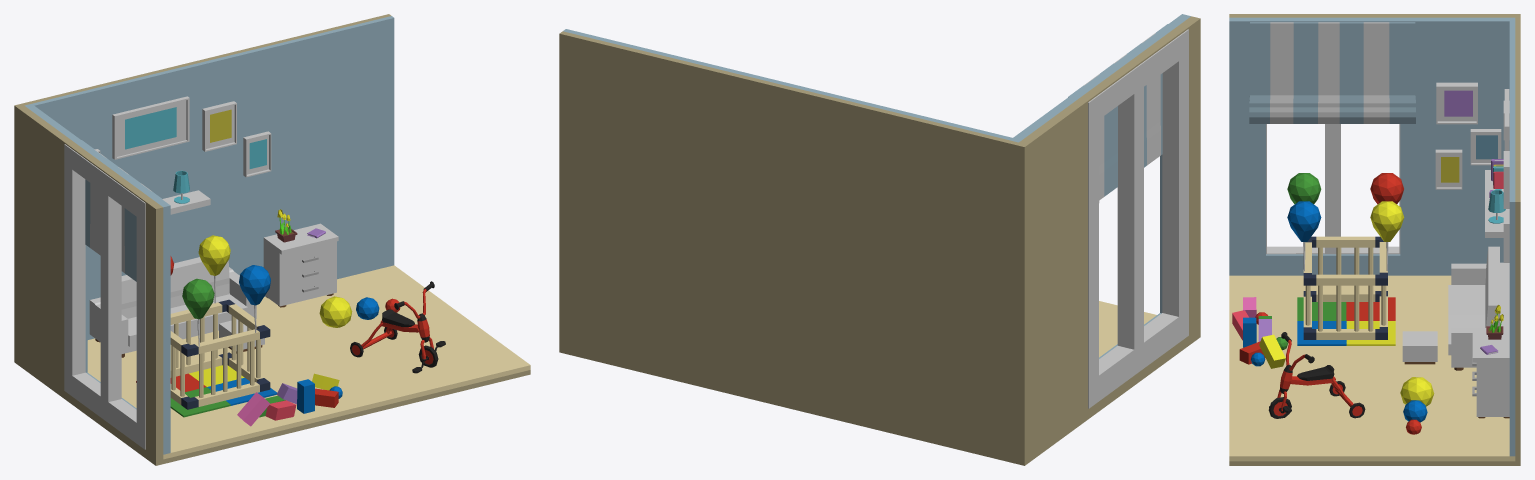
File: Kids room.fbx
3 views of the same model, side by side, from view 1: azimuth 30°, elevation 25°; view 2: azimuth 150°, elevation 25°; view 3: azimuth 270°, elevation 25° (orthographic). The views are drawn at different scales.
Visible parts, largest first — view 1: Cube, Window, Cuna, Gabinete, Sofa, Art 5, Tricycle, Colors, Art 6, Art 7, Ballons 2, Ballons 1 (+5 smaller); view 2: Cube, Window; view 3: Cube, Window, Cuna, Sofa, Gabinete, Colors, Tricycle, Art 1, Mueble, Art 3, Art 2, Ballons 1 (+14 smaller).
Part boxes in pixels (bbox=[...]): Cube: bbox=[14, 14, 530, 465]; Window: bbox=[64, 140, 161, 449]; Cuna: bbox=[170, 299, 270, 409]; Gabinete: bbox=[263, 223, 338, 307]; Sofa: bbox=[89, 257, 256, 357]; Art 5: bbox=[112, 96, 189, 159]; Tricycle: bbox=[350, 281, 445, 373]; Colors: bbox=[136, 365, 276, 417]; Art 6: bbox=[202, 101, 236, 151]; Art 7: bbox=[243, 131, 271, 177]; Ballons 2: bbox=[182, 278, 214, 346]; Ballons 1: bbox=[239, 265, 270, 332]; Cube: bbox=[559, 14, 1200, 465]; Window: bbox=[1068, 24, 1188, 408]; Cube: bbox=[1229, 14, 1520, 465]; Window: bbox=[1249, 22, 1415, 254]; Cuna: bbox=[1303, 236, 1387, 339]; Sofa: bbox=[1448, 246, 1509, 370]; Gabinete: bbox=[1472, 329, 1509, 418]; Colors: bbox=[1297, 297, 1395, 345]; Tricycle: bbox=[1268, 332, 1365, 418]; Art 1: bbox=[1436, 82, 1477, 124]; Mueble: bbox=[1402, 331, 1437, 364]; Art 3: bbox=[1435, 149, 1462, 189]; Art 2: bbox=[1470, 129, 1501, 165]; Ballons 1: bbox=[1287, 201, 1321, 271].
Size of the model in its own units: 306 by 200 by 200.
